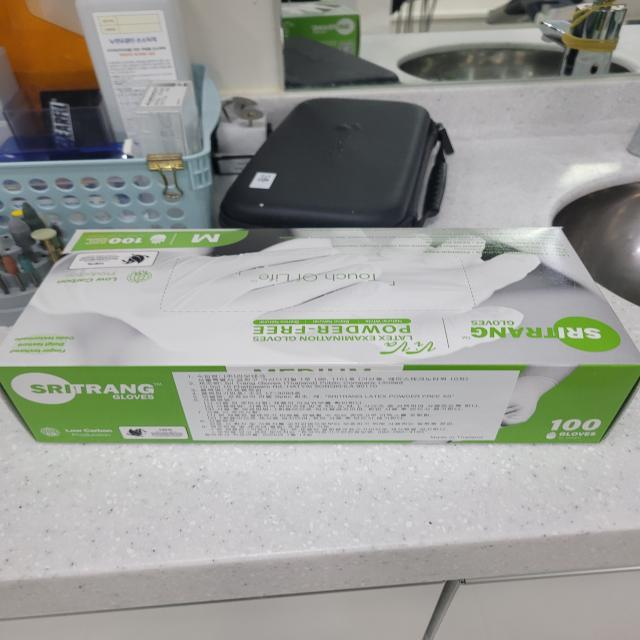glove: (5, 211, 640, 478)
